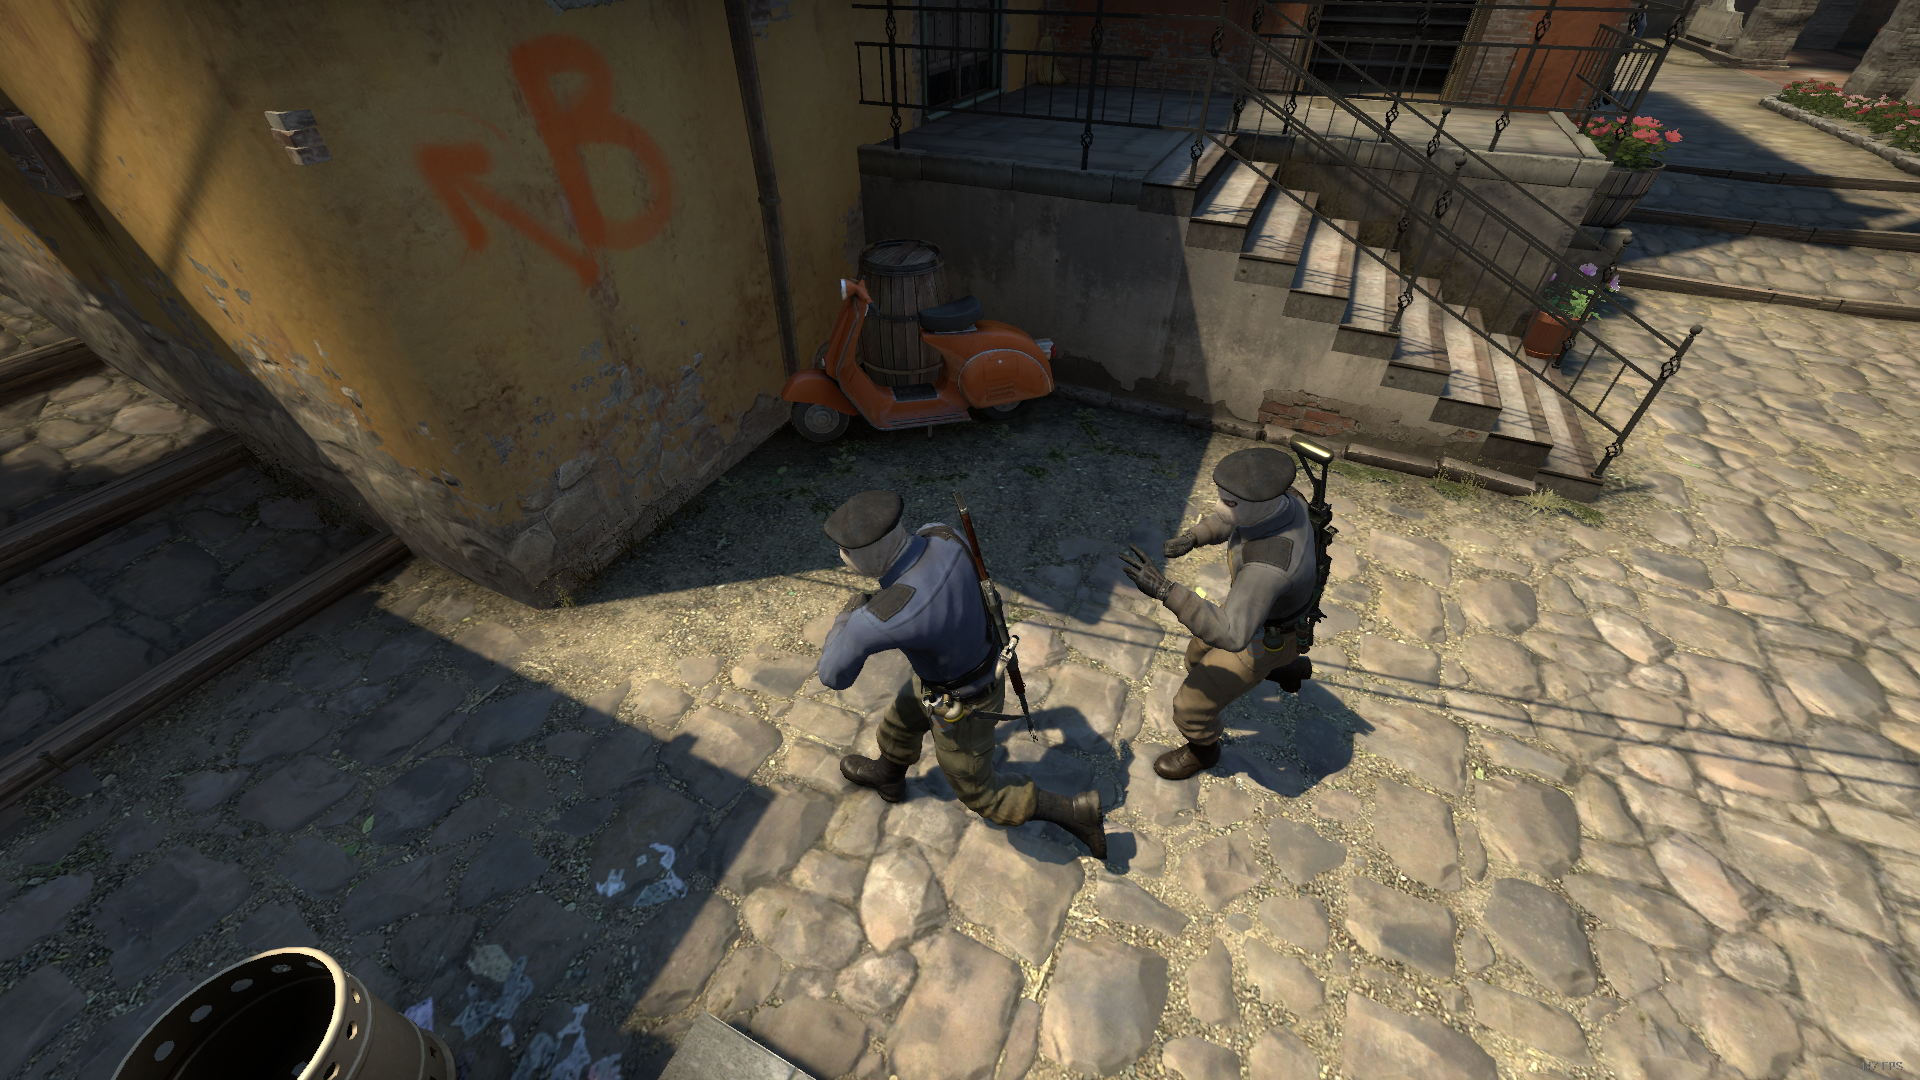t: (811, 479, 1118, 869), (1125, 436, 1336, 783)
